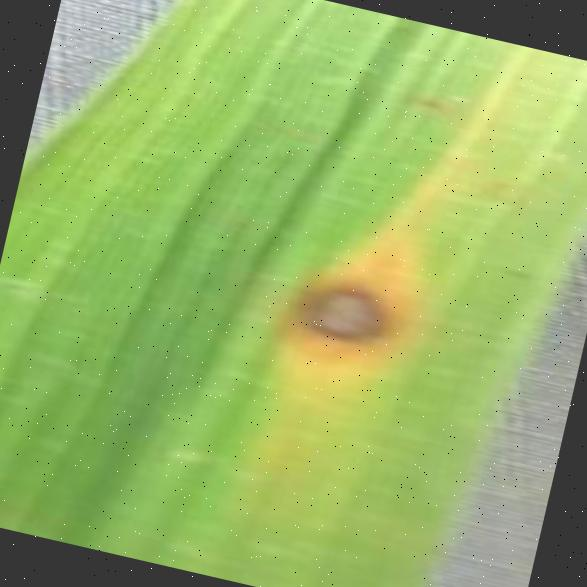Brown_Spot: (241, 222, 446, 394), (389, 71, 452, 125), (486, 248, 542, 294), (472, 156, 524, 202)
